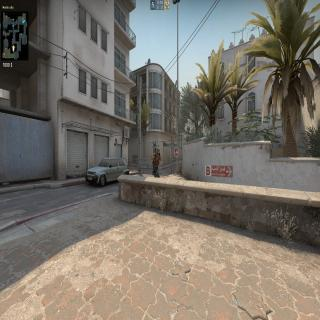T-Head: (156, 146, 160, 156)
